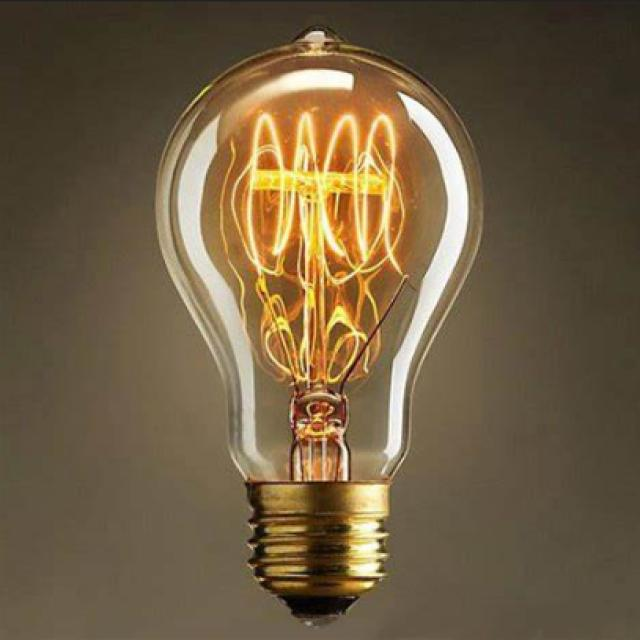bulb_on: (159, 37, 488, 627)
